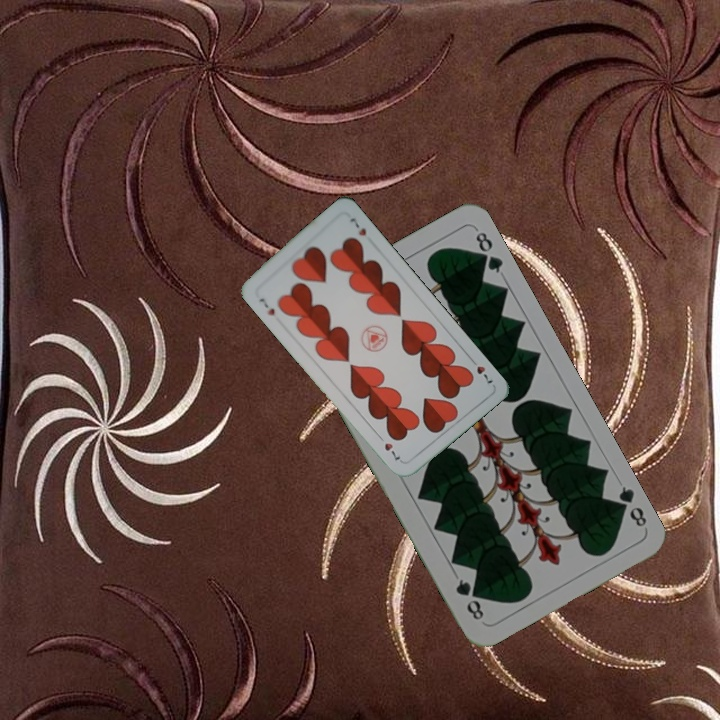G8: (609, 482, 650, 530)
H7: (466, 353, 496, 386), (255, 294, 277, 318)
